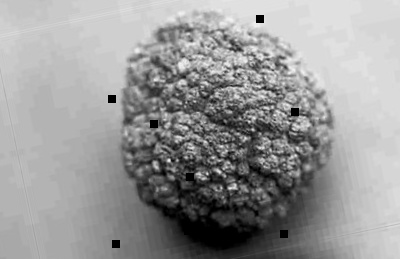halobolite: (84, 0, 359, 259)
